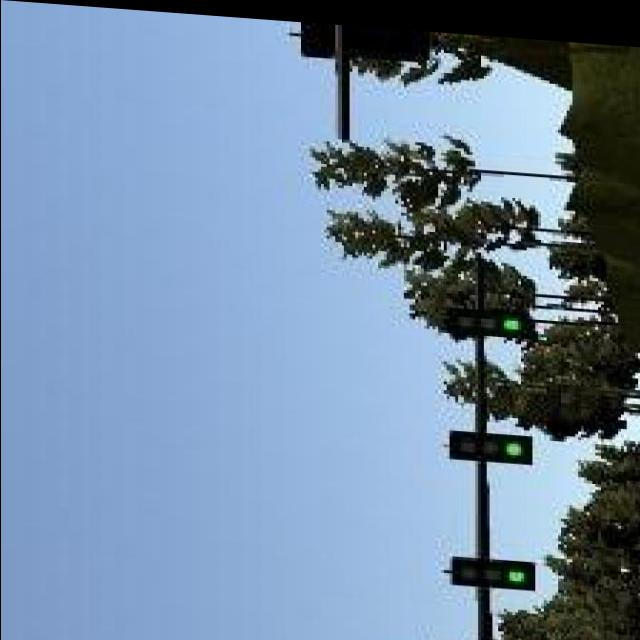green light: (449, 420, 532, 459), (449, 552, 535, 583), (446, 303, 534, 331)
